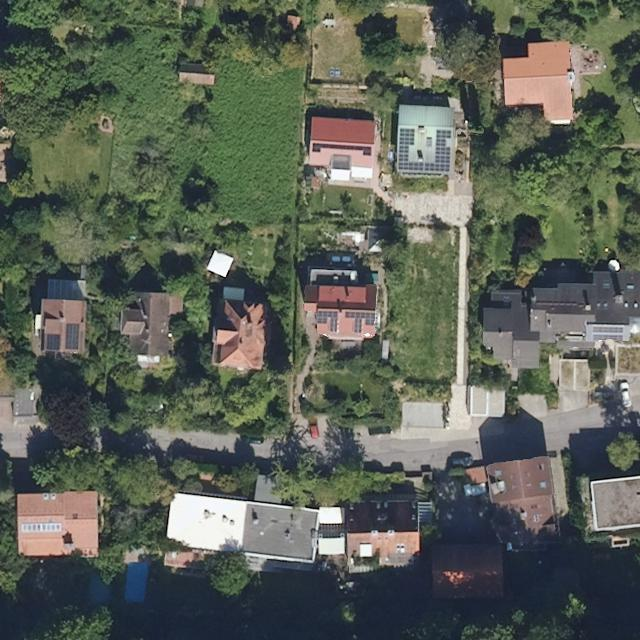PV: (398, 128, 452, 173), (344, 310, 376, 334), (587, 325, 628, 342), (316, 310, 339, 333), (20, 522, 62, 532), (65, 325, 79, 351), (45, 334, 60, 351)
